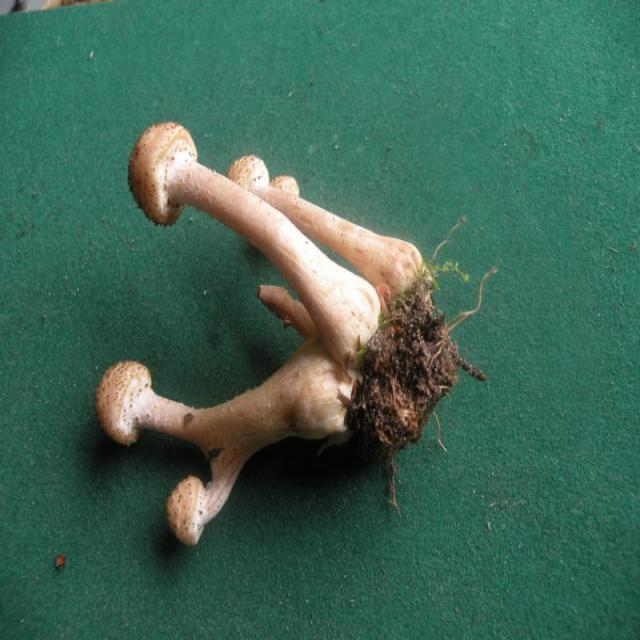Armillaria mellea: (95, 118, 463, 540)
